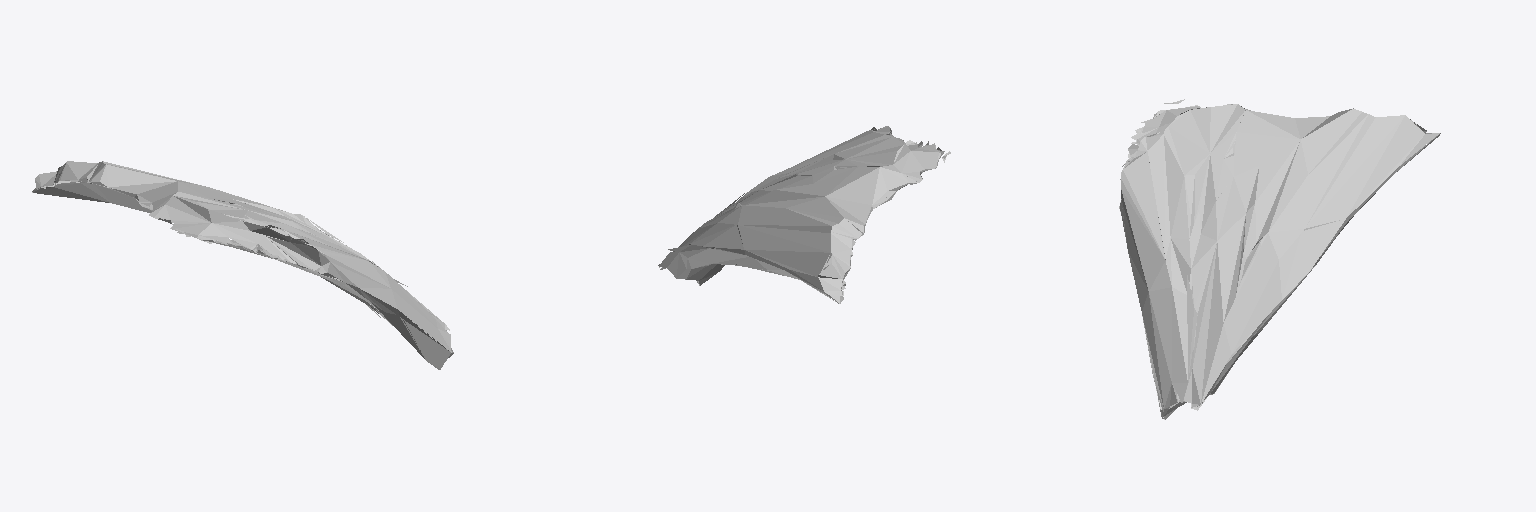
File: FJ770_BP2636_FMA46444_Left_coccygeus.obj
3 renders of one model, left to right at view 1: azimuth 30°, elevation 25°; view 2: azimuth 150°, elevation 25°; view 3: azimuth 270°, elevation 25°, orthographic.
Visible parts, largest first — view 1: FJ770_BP2636_FMA46444_Left_coccygeus; view 2: FJ770_BP2636_FMA46444_Left_coccygeus; view 3: FJ770_BP2636_FMA46444_Left_coccygeus.
Boxes of the visible parts, x1,y1,x2,y2 form: FJ770_BP2636_FMA46444_Left_coccygeus: [32, 161, 453, 369]; FJ770_BP2636_FMA46444_Left_coccygeus: [658, 126, 950, 303]; FJ770_BP2636_FMA46444_Left_coccygeus: [1119, 99, 1440, 419].
Size of the model in its own units: 42.85 by 27.99 by 39.72.